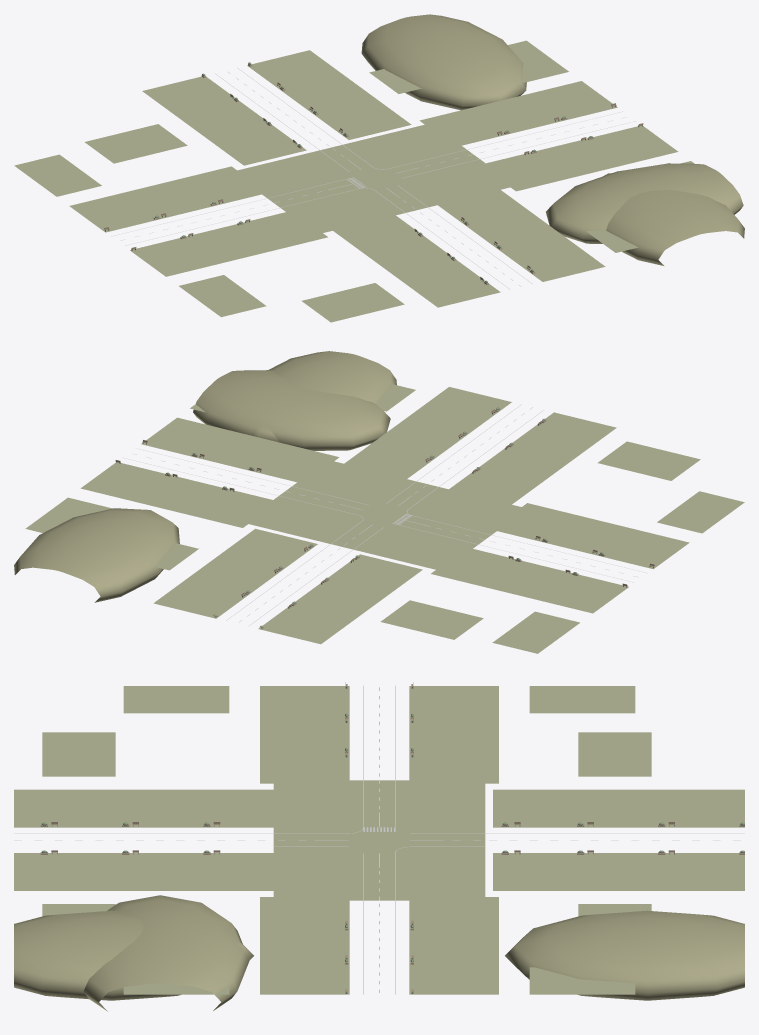
3 renders of one model, top to bottom at view 1: azimuth 30°, elevation 25°; view 2: azimuth 150°, elevation 25°; view 3: azimuth 270°, elevation 25°, orthographic. The views are drawn at different scales.
Parts seen in each view (by area): view 1: static; view 2: static; view 3: static.
Part boxes in pixels (bbox=[...]): static: bbox=[14, 14, 744, 322]; static: bbox=[14, 351, 744, 653]; static: bbox=[14, 682, 744, 1011].
Size of what is drawn, in the model's own units: 180 by 14.08 by 180.
